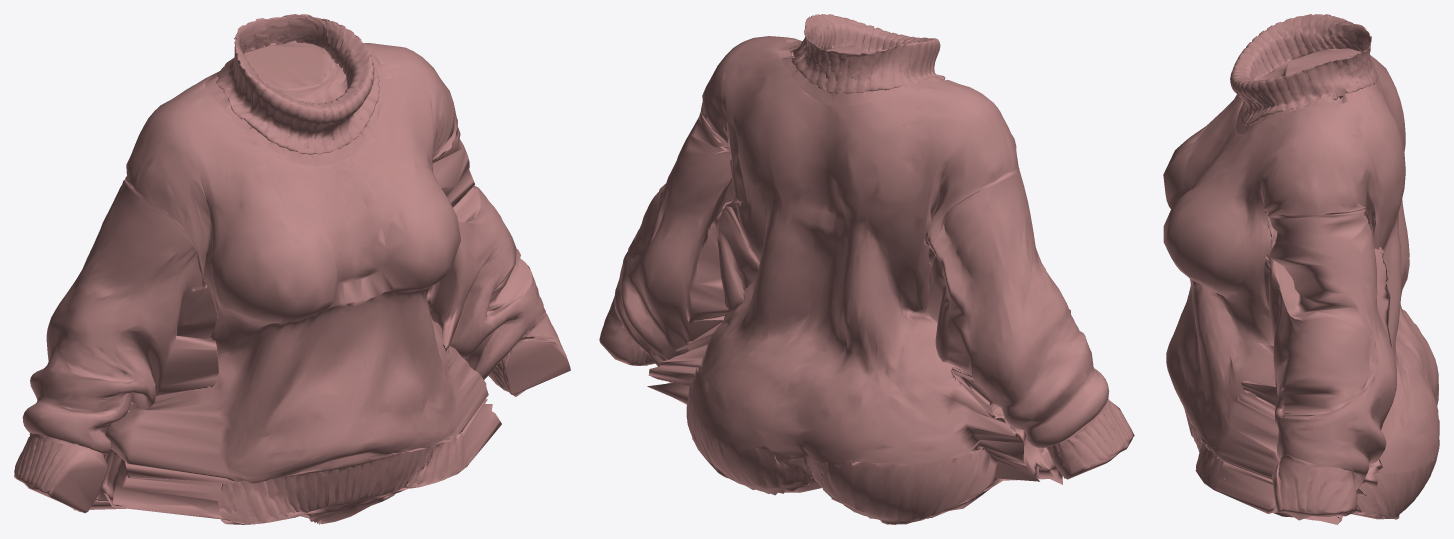
Rendered from top_f_sweater.glb.
The picture shows the model from 3 angles, left to right: view 1: azimuth 30°, elevation 25°; view 2: azimuth 150°, elevation 25°; view 3: azimuth 270°, elevation 25°; orthographic projection. The views are drawn at different scales.
Parts seen in each view (by area): view 1: f_sweater; view 2: f_sweater; view 3: f_sweater.
Boxes of the visible parts, bbox=[...] form: f_sweater: bbox=[14, 14, 570, 524]; f_sweater: bbox=[599, 14, 1134, 524]; f_sweater: bbox=[1163, 14, 1439, 524].
Size of the model in its own units: 0.8251 by 0.6944 by 0.3906.
1 material, 1 textured.
